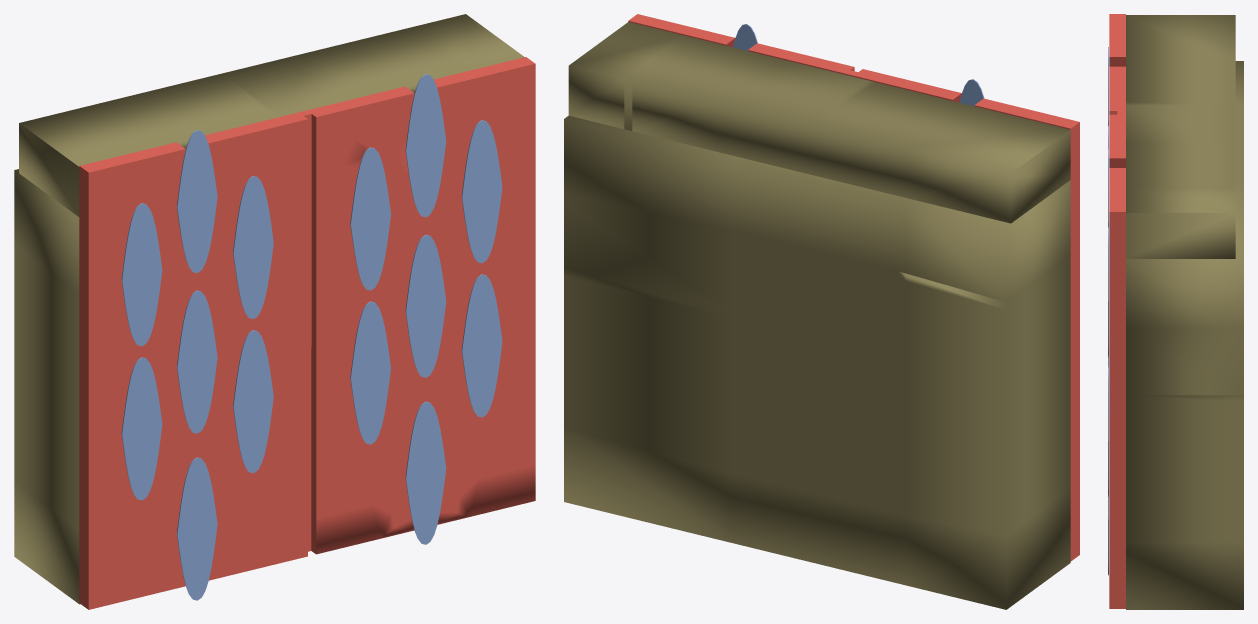
File: Cupboard4.FBX
The picture shows the model from 3 angles, left to right: view 1: azimuth 30°, elevation 25°; view 2: azimuth 150°, elevation 25°; view 3: azimuth 270°, elevation 25°; orthographic projection. The views are drawn at different scales.
Parts seen in each view (by area): view 1: front cover, glass, top shelves, main shelves; view 2: main shelves, top shelves, front cover, glass; view 3: main shelves, top shelves, front cover, glass.
Part boxes in pixels (x1,y1,x2,y2): front cover: (79,57,535,609); glass: (121,74,502,600); top shelves: (19,14,524,216); main shelves: (14,169,424,604); main shelves: (564,115,1070,609); top shelves: (568,22,1070,223); front cover: (628,14,1079,561); glass: (733,24,984,106); main shelves: (1126,61,1243,609); top shelves: (1126,15,1235,258); front cover: (1109,14,1125,608); glass: (1108,47,1108,575).
Size of the model in its own units: 278 by 280 by 80.68.
